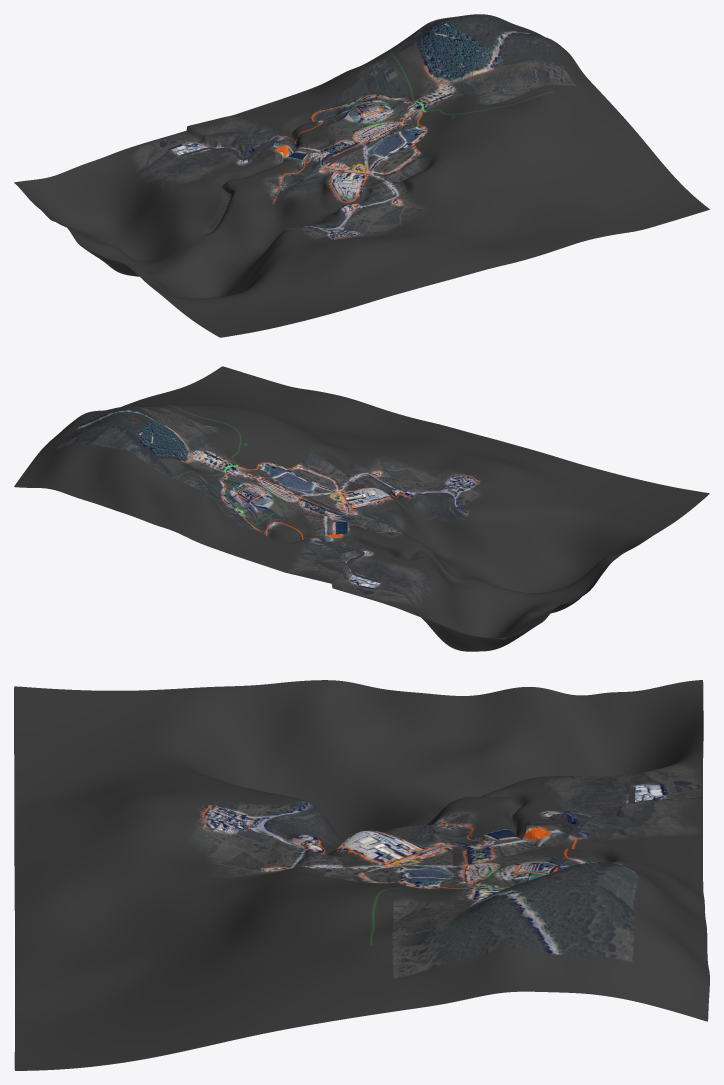
The model's file is Entorno_28_Ago_2024.fbx.
3 views of the same model, one above another, from view 1: azimuth 30°, elevation 25°; view 2: azimuth 150°, elevation 25°; view 3: azimuth 270°, elevation 25° (orthographic). The views are drawn at different scales.
Visible parts, largest first — view 1: Plane.002; view 2: Plane.002; view 3: Plane.002.
Boxes of the visible parts, x1,y1,x2,y2 form: Plane.002: (14,14,709,337); Plane.002: (14,366,709,651); Plane.002: (14,680,709,1070).
Size of the model in its own units: 399609 by 112737 by 290363.
